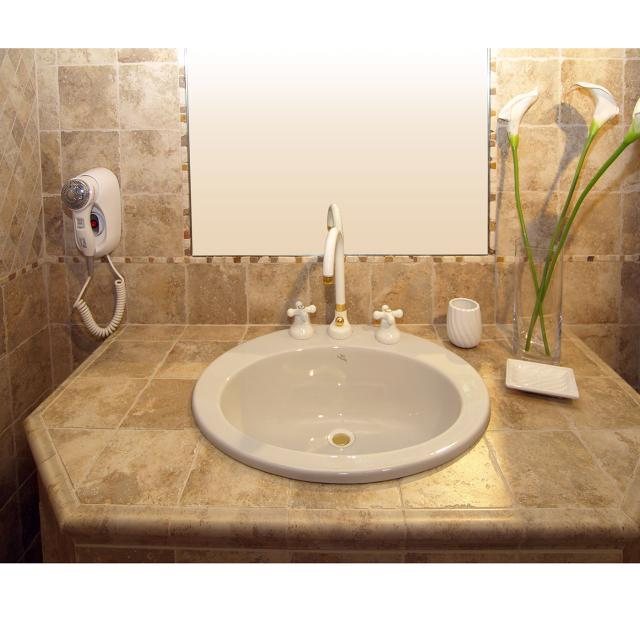dryer: (58, 153, 142, 351)
